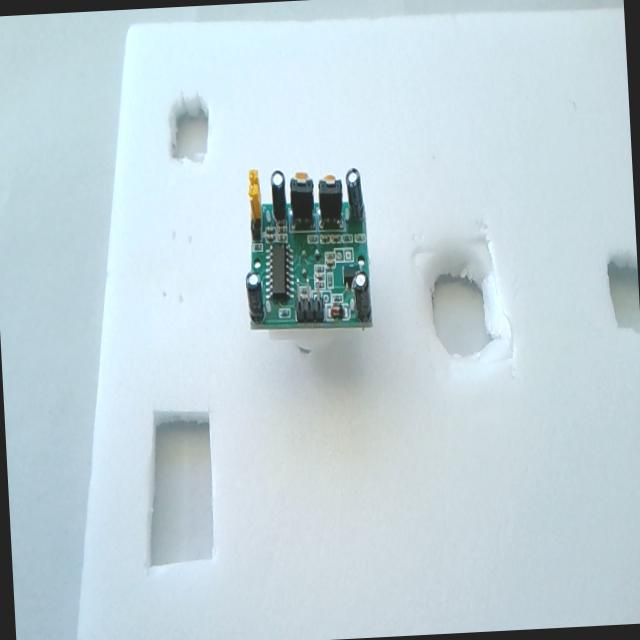Electrolytic capacitor: (345, 167, 365, 222), (352, 271, 372, 321), (246, 272, 265, 324), (270, 169, 288, 221)
IC: (266, 240, 293, 302)
pinheader: (297, 294, 325, 324)
